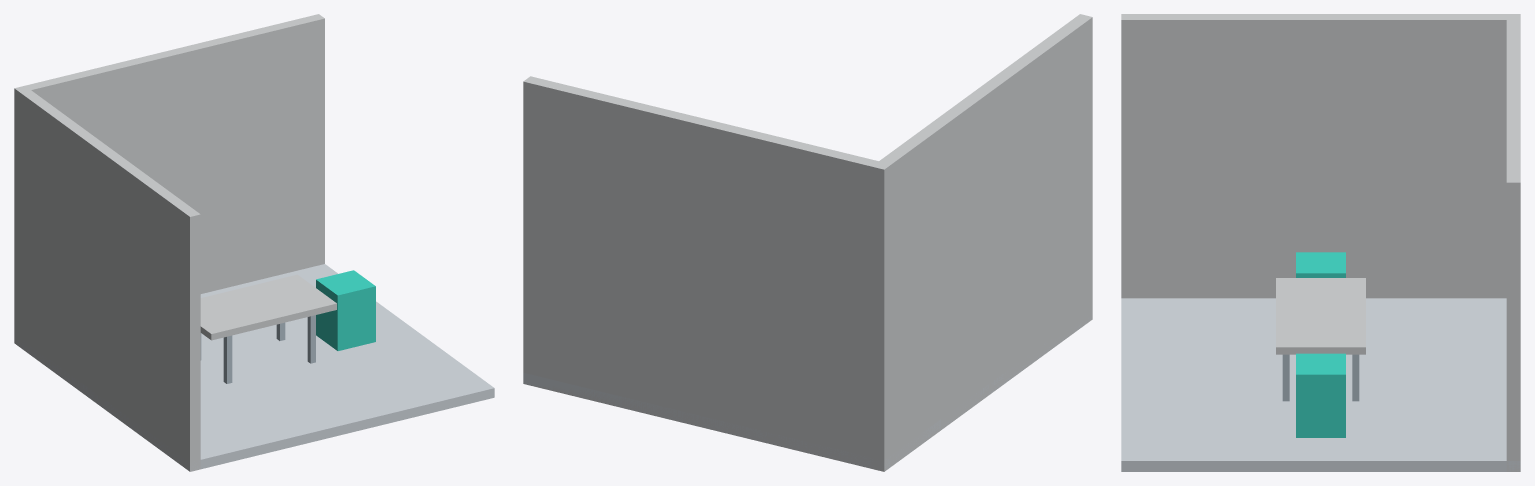
The picture shows the model from 3 angles, left to right: view 1: azimuth 30°, elevation 25°; view 2: azimuth 150°, elevation 25°; view 3: azimuth 270°, elevation 25°; orthographic projection. The views are drawn at different scales.
Visible parts, largest first — view 1: Exhibition Booth Concept; view 2: Exhibition Booth Concept; view 3: Exhibition Booth Concept.
Part boxes in pixels (x1=…): Exhibition Booth Concept: x1=14, y1=14, x2=494, y2=471; Exhibition Booth Concept: x1=523, y1=14, x2=1092, y2=471; Exhibition Booth Concept: x1=1121, y1=14, x2=1520, y2=471.
Size of the model in its own units: 4 by 3.2 by 4.
